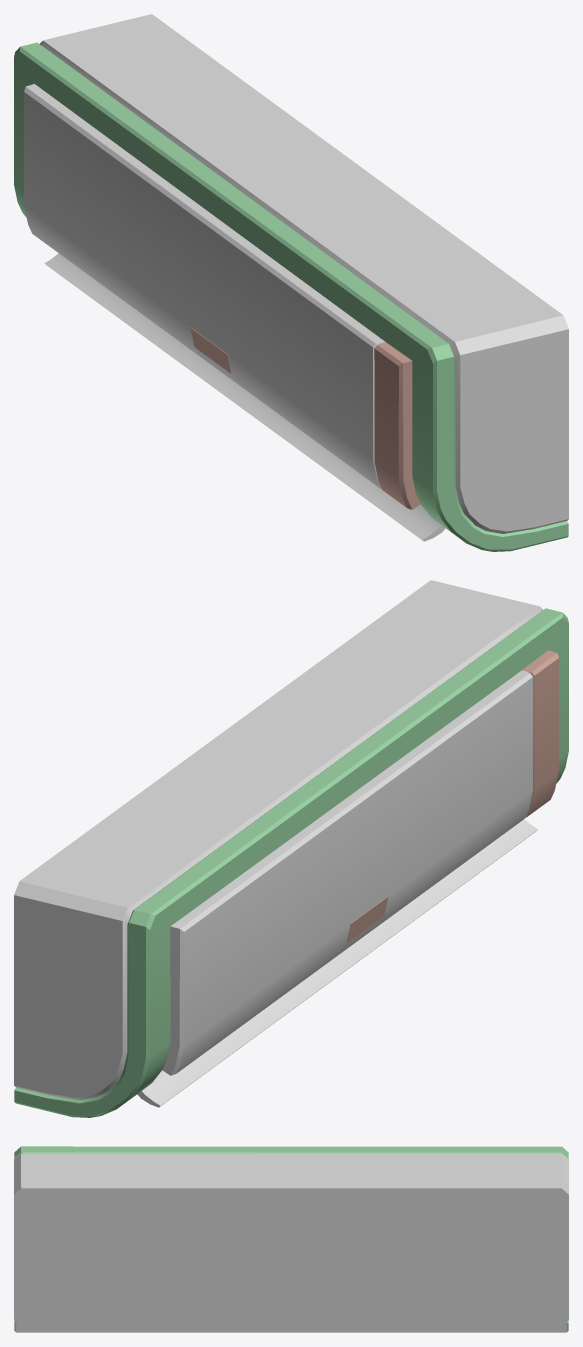
Rendered from AS24BPA.FBX.
3 renders of one model, top to bottom at view 1: azimuth 30°, elevation 25°; view 2: azimuth 150°, elevation 25°; view 3: azimuth 270°, elevation 25°, orthographic. The views are drawn at different scales.
Visible parts, largest first — view 1: AS24BPA; view 2: AS24BPA; view 3: AS24BPA.
Boxes of the visible parts, x1,y1,x2,y2 form: AS24BPA: (14, 14, 568, 551); AS24BPA: (14, 580, 568, 1117); AS24BPA: (14, 1146, 568, 1332).
Size of the model in its own units: 22.05 by 110 by 31.5.
